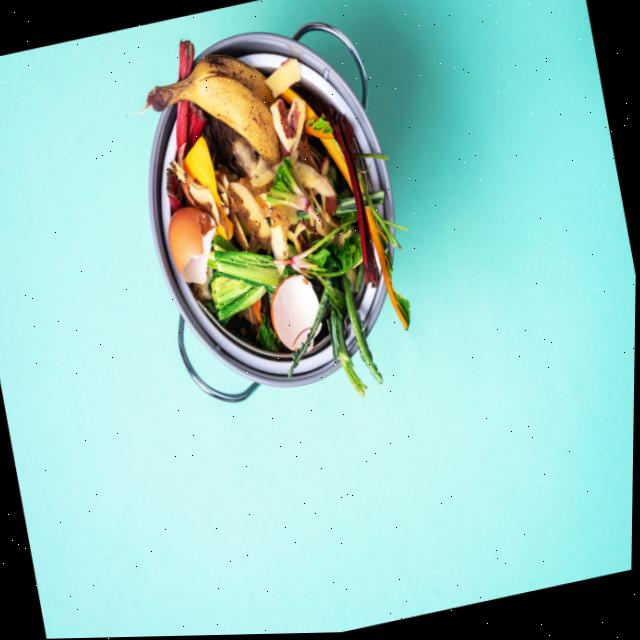Wet: (143, 50, 323, 175), (304, 224, 399, 405), (203, 233, 294, 326)
